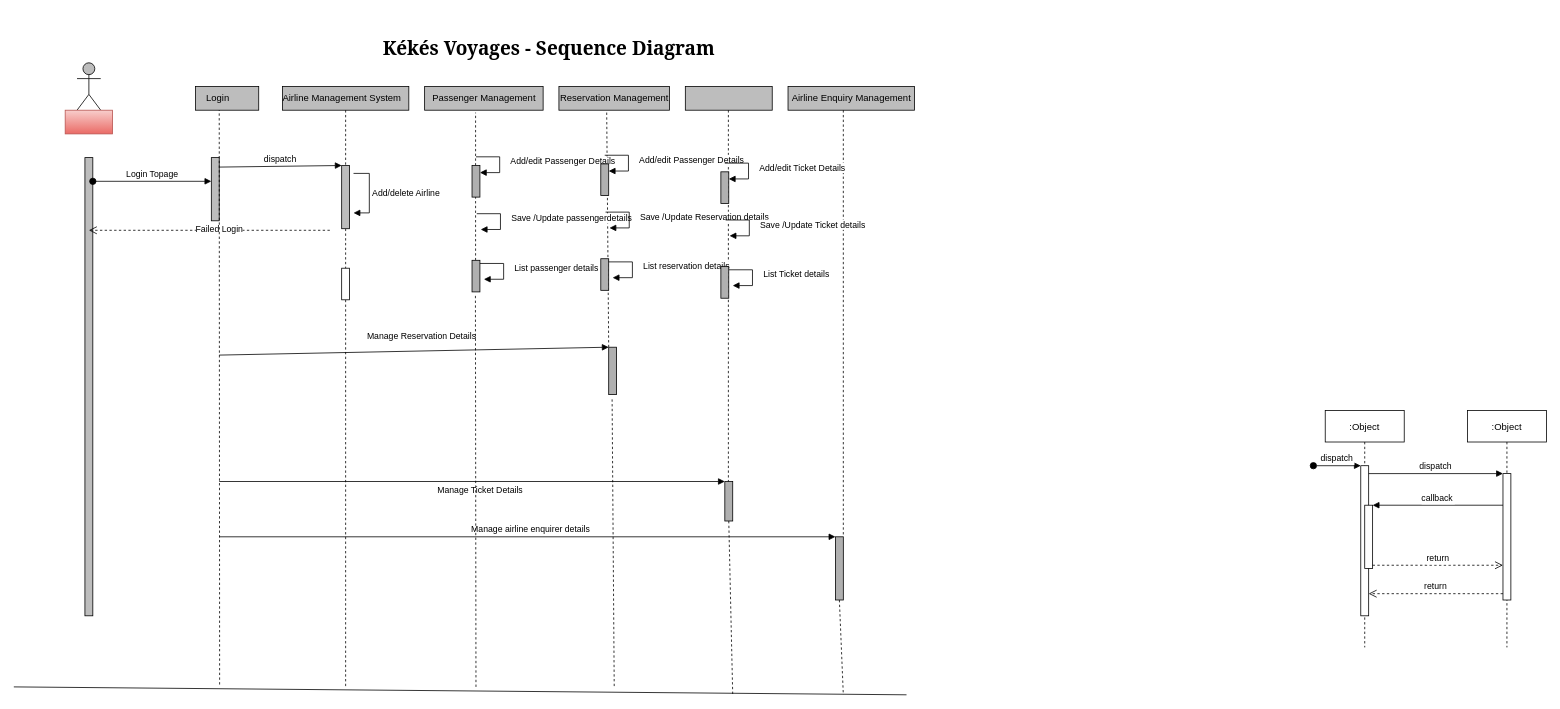
The diagram is 1560 pixels wide and 709 high, and some of its shapes have lost their labels. The shapes that lost their labels are listed below. From the top down, each one's centre as x and y in pixels, then its label:
At [88,86]: "Actor".
At [728,98]: "Ticket management".
At [88,121]: "Airline ADMIN".
